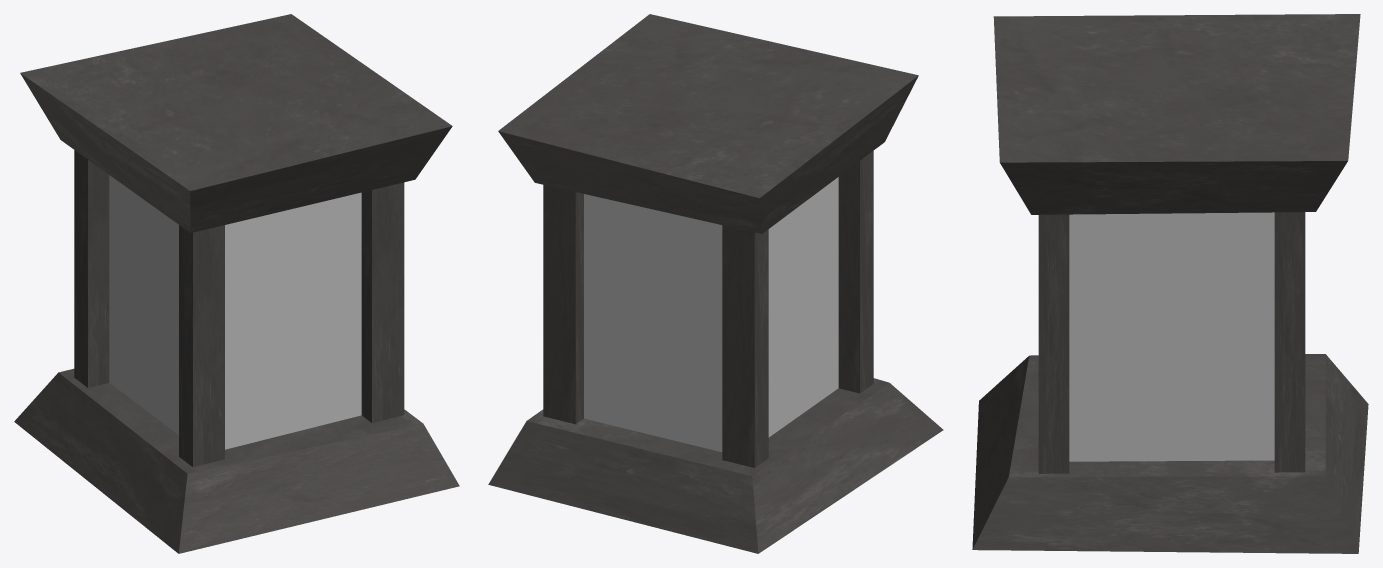
The model's file is new mask pillar.fbx.
The picture shows the model from 3 angles, left to right: view 1: azimuth 30°, elevation 25°; view 2: azimuth 150°, elevation 25°; view 3: azimuth 270°, elevation 25°; orthographic projection. The views are drawn at different scales.
Parts seen in each view (by area): view 1: Cube.001; view 2: Cube.001; view 3: Cube.001.
Boxes of the visible parts, <box> form: Cube.001: <box>14,14,459,553</box>; Cube.001: <box>488,14,943,553</box>; Cube.001: <box>972,14,1368,553</box>.
Size of the model in its own units: 210 by 250 by 228.
